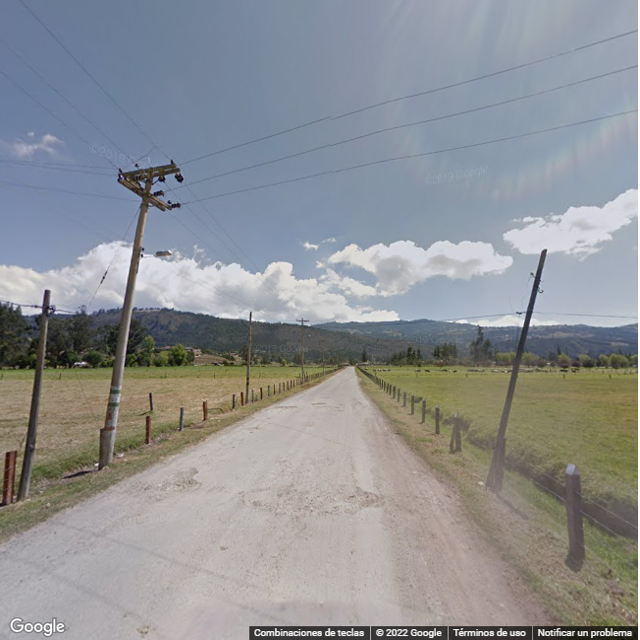D40: (250, 481, 367, 518), (166, 466, 199, 497)
